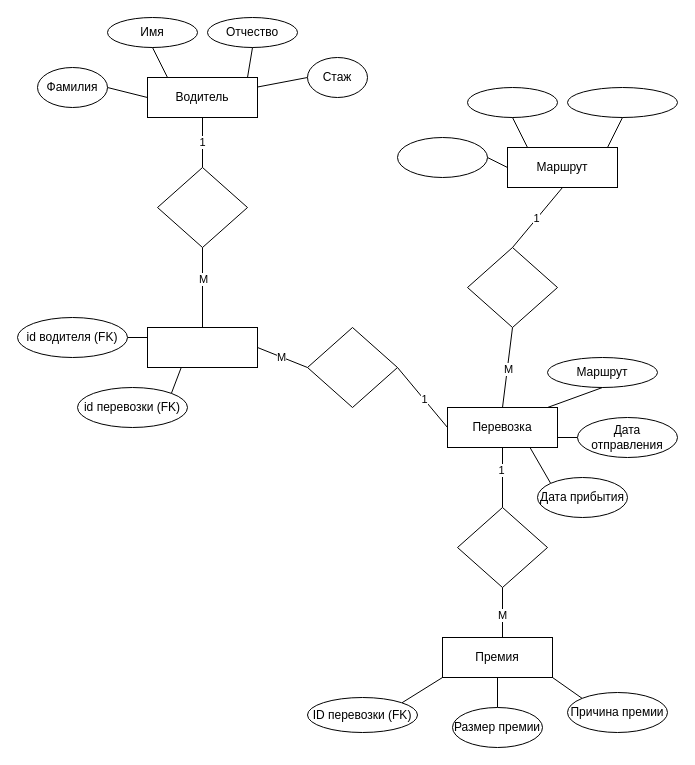
The diagram is 695 pixels wide and 765 high, and some of its shapes have lost their labels. The shapes that lost their labels are listed below. From the top down, each one's centre as x and y in pixels, then its label:
At point (512, 102): "Расстояние".
At point (622, 102): "Базовая оплата".
At point (442, 157): "Название маршрута".
At point (202, 207): "участвует".
At point (512, 287): "использует".
At point (202, 347): "Назначение водителя".
At point (352, 367): "входит".
At point (502, 547): "назначена".
